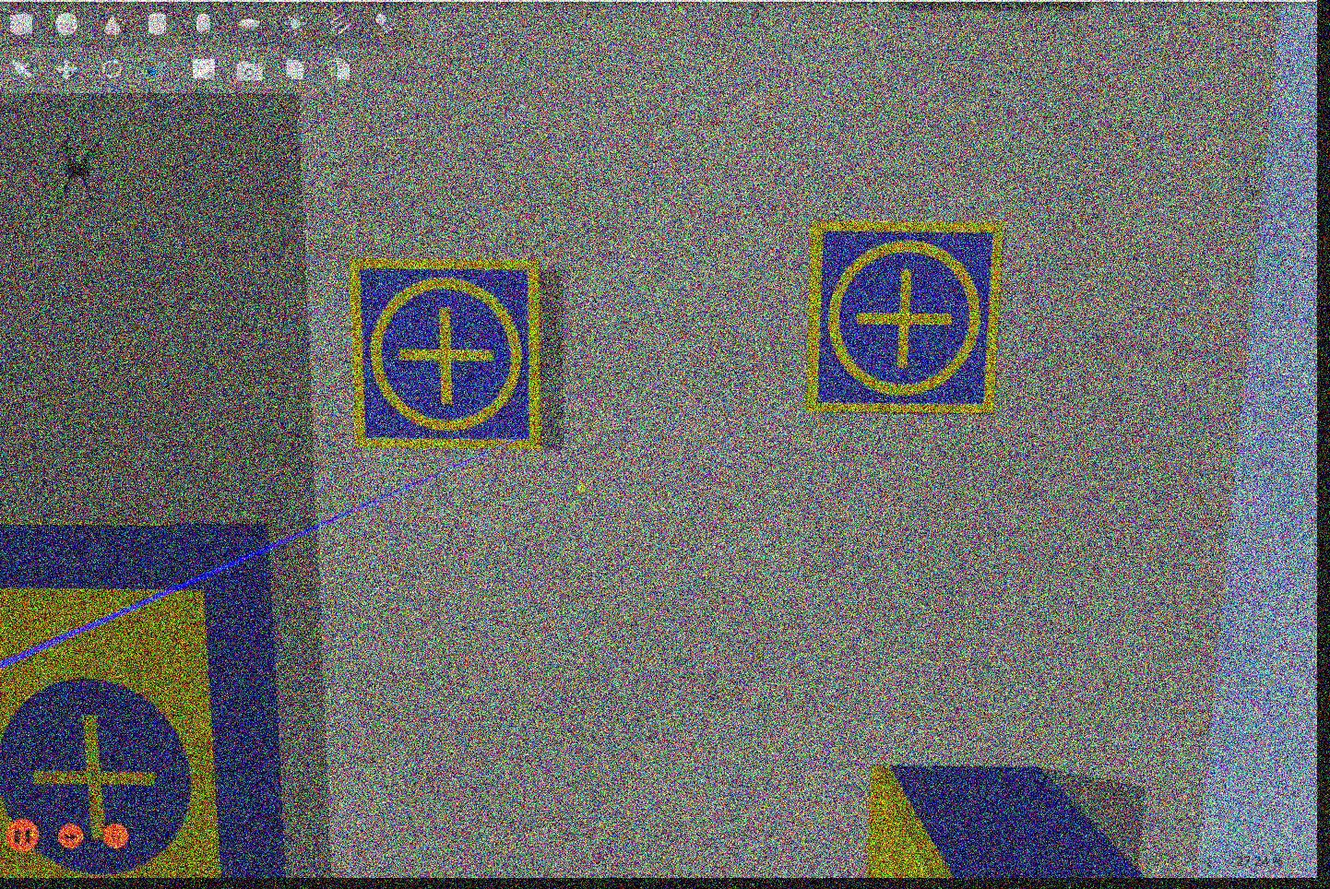large_base: (1, 519, 279, 889)
small_base: (803, 216, 1006, 421), (343, 253, 547, 454)
